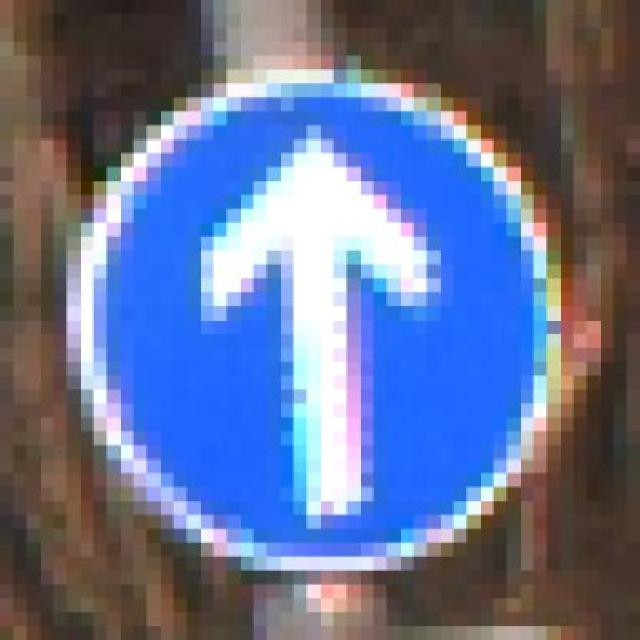Straight Ahead Only: (39, 69, 587, 571)
